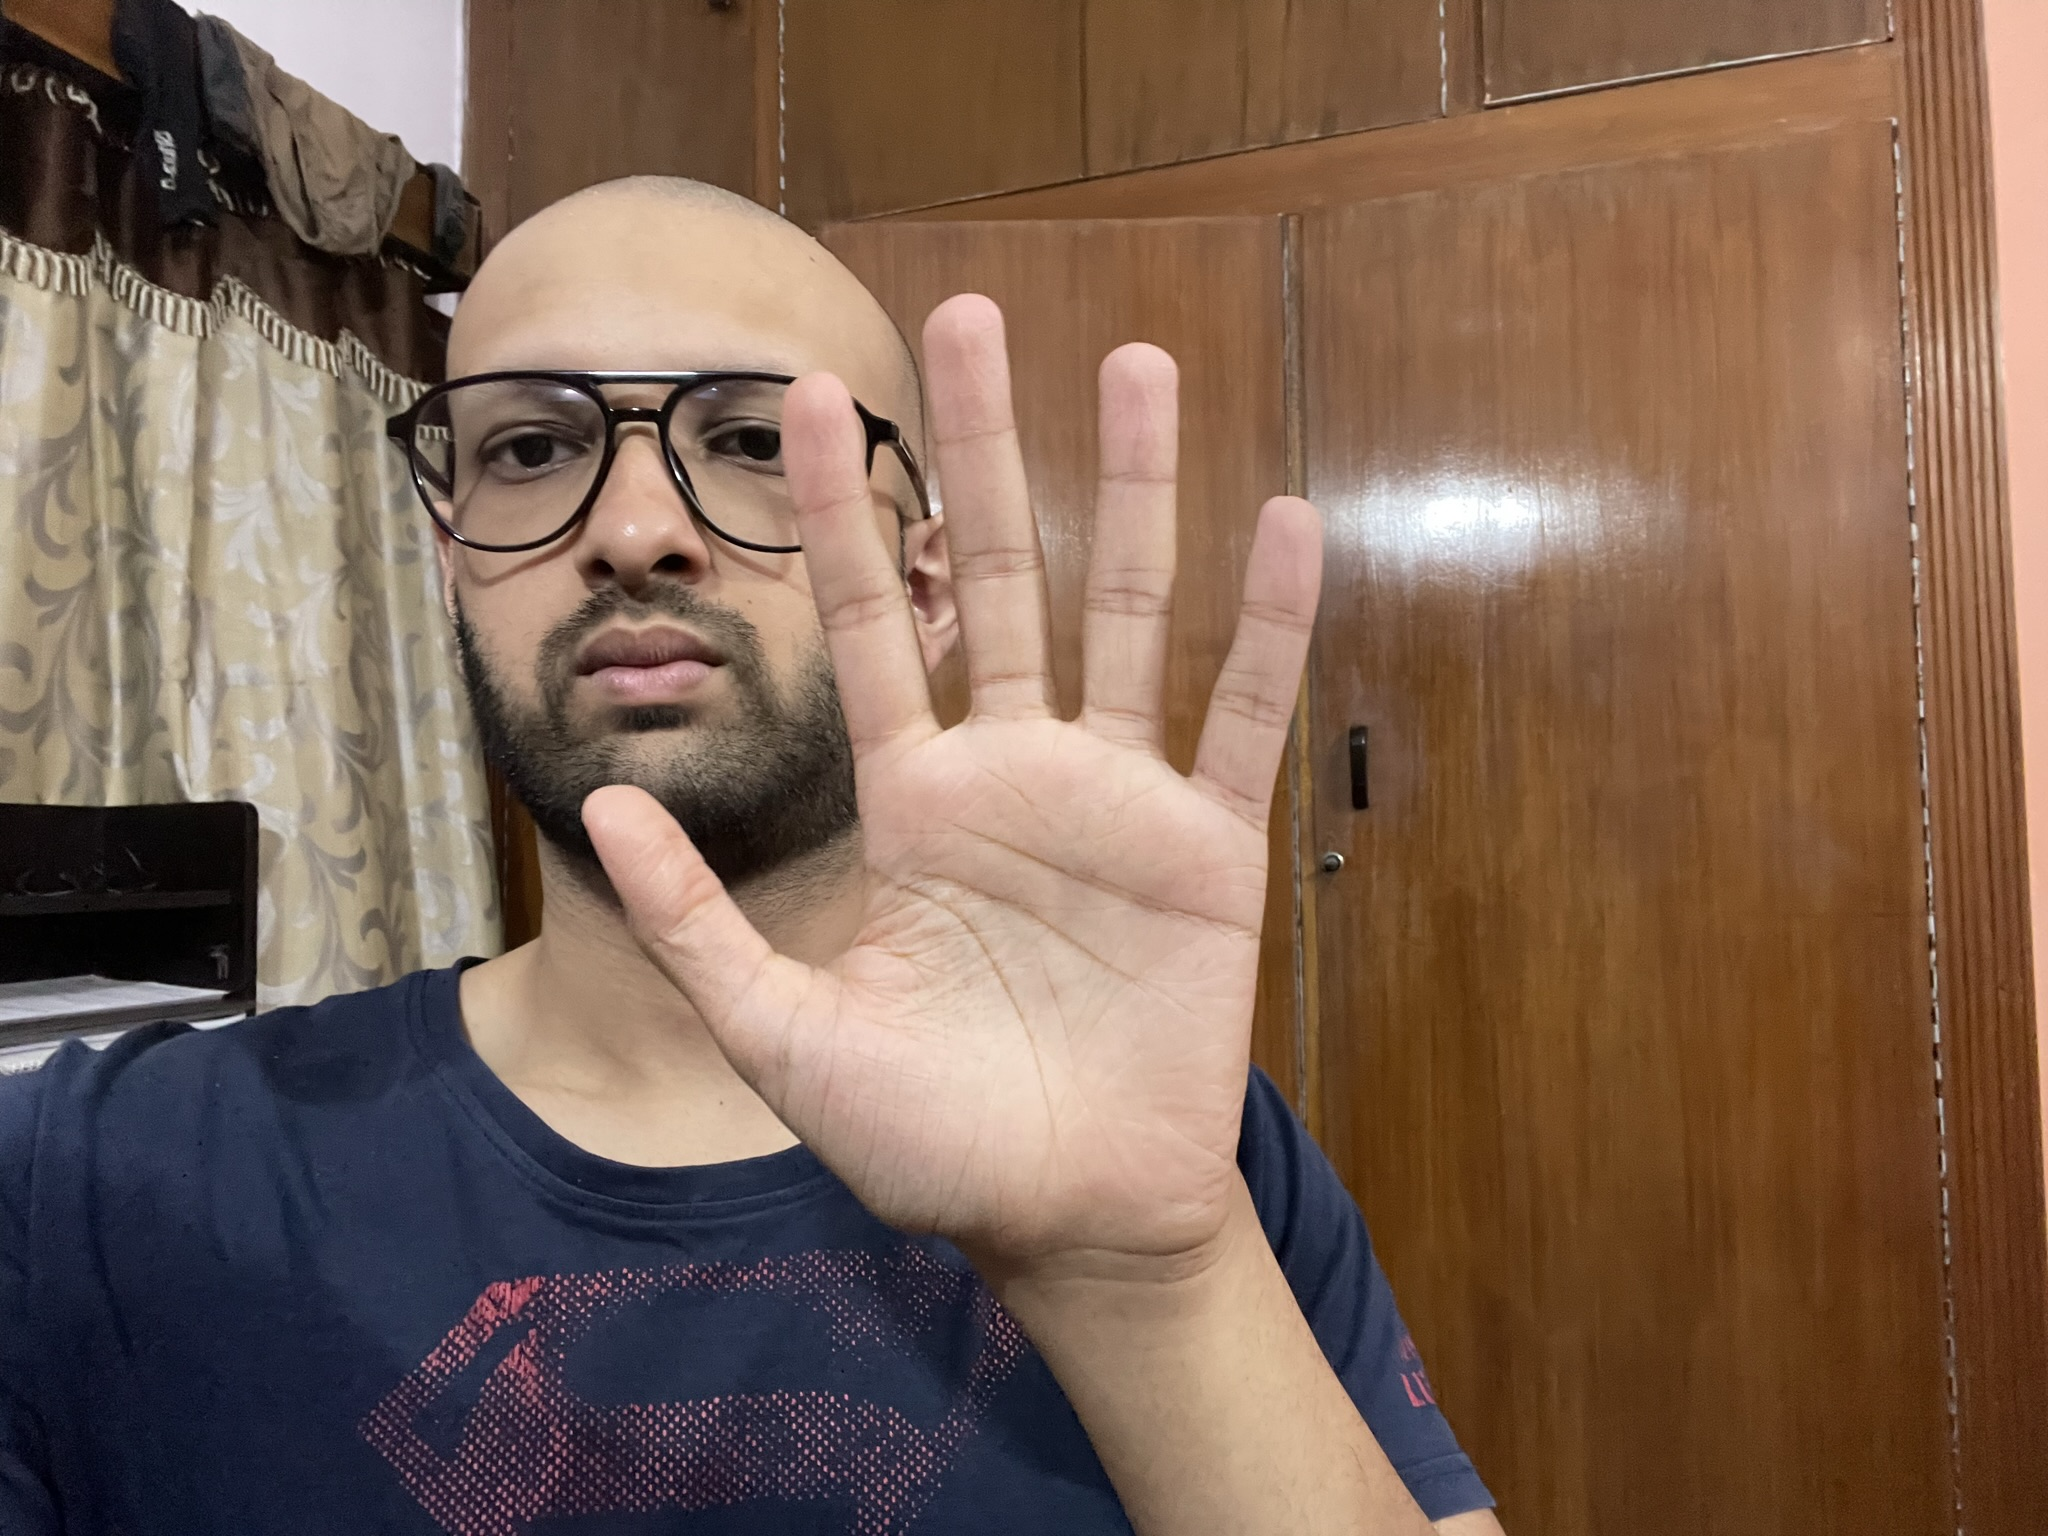Hello: (572, 295, 1335, 1281)
